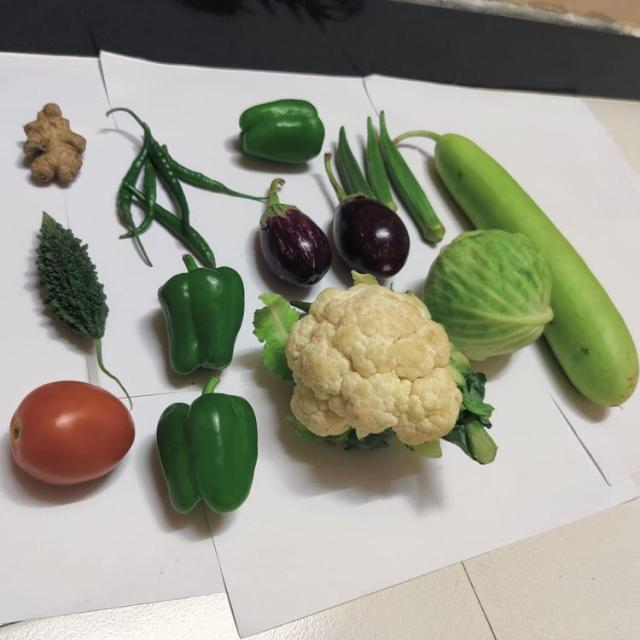Organik: (270, 288, 462, 451), (12, 208, 126, 377), (112, 106, 221, 268), (427, 235, 555, 352), (155, 390, 262, 520), (7, 379, 139, 484), (157, 253, 248, 374), (322, 157, 407, 277), (255, 178, 329, 284), (12, 102, 88, 191), (240, 97, 326, 165)
